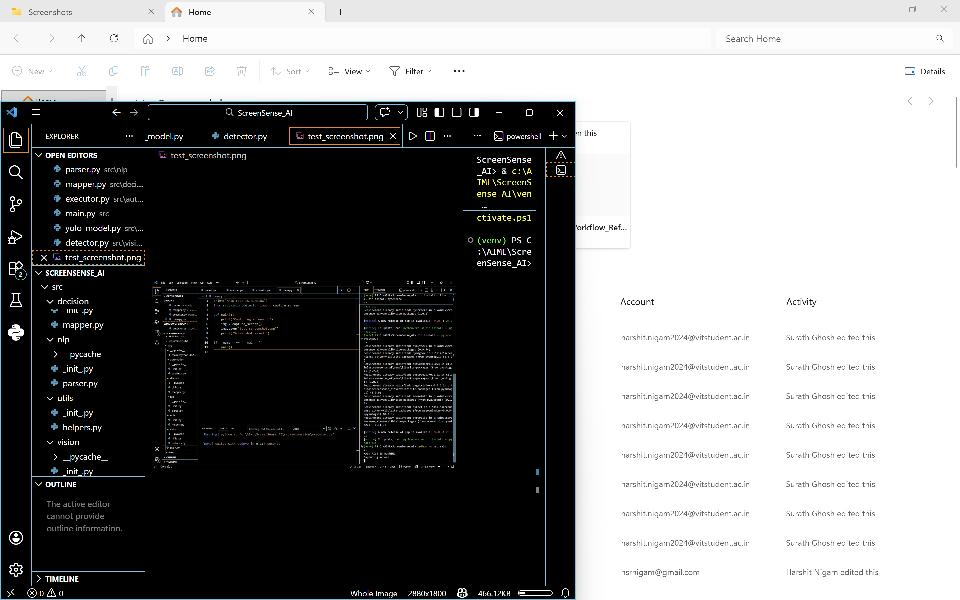close_button: (934, 2, 954, 18), (553, 104, 568, 121)
maximize_button: (519, 104, 539, 122), (903, 2, 923, 17)
minimize_button: (875, 2, 894, 19), (491, 104, 508, 122)
